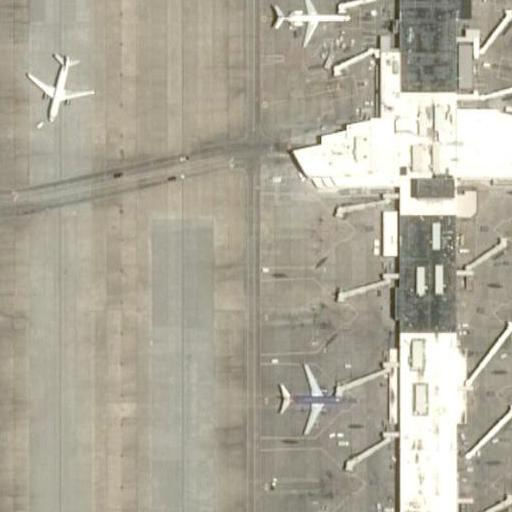Aircraft: (272, 369, 350, 436), (25, 48, 96, 121), (266, 0, 352, 45)
